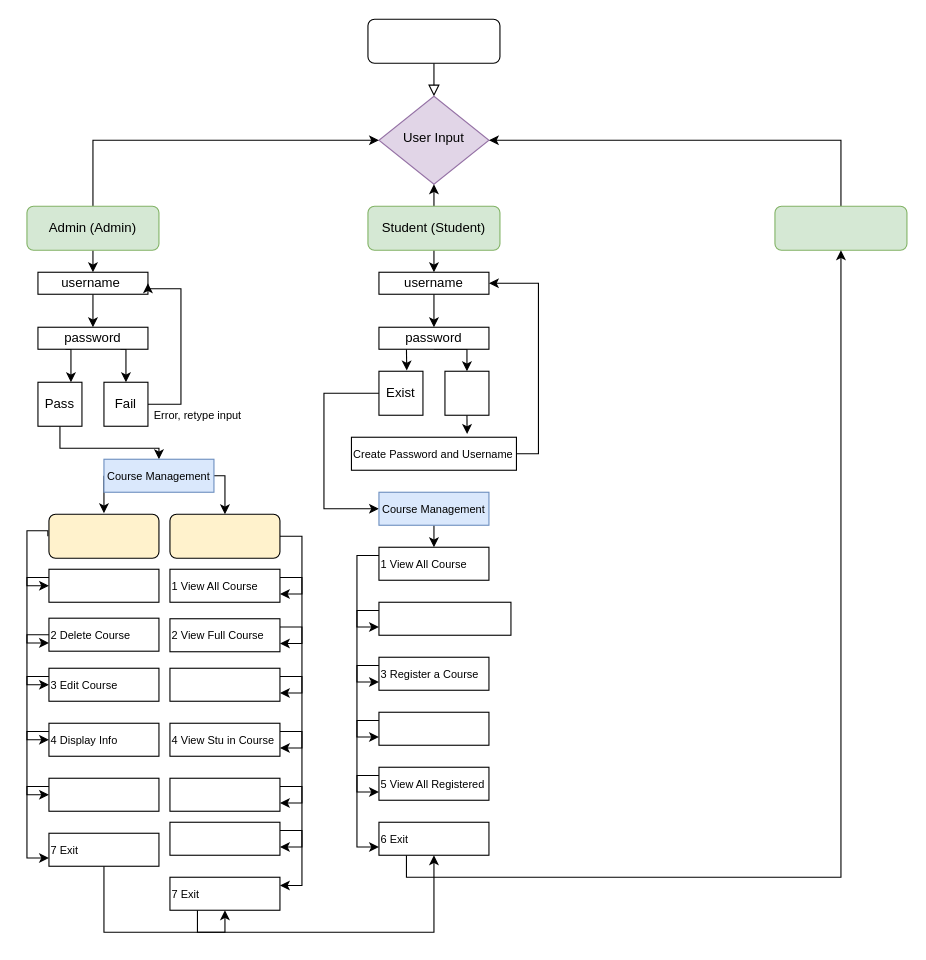
This 926x960 diagram has some shape labels left out. Each missing label, with the box of its shape:
1 Create Course: (48, 568, 159, 602)
2 View Available Course: (378, 601, 511, 635)
3 Write To File: (169, 667, 280, 701)
4 Withdraw a Course: (378, 711, 489, 745)
5 Register Student: (48, 777, 159, 811)
5 View Course of Stu: (169, 777, 280, 811)
6 Sort Course: (169, 821, 280, 855)
E (Exit): (774, 205, 907, 250)
Mange Course: (48, 513, 159, 558)
Null: (444, 370, 489, 415)
Report: (169, 513, 280, 558)
Start: (367, 18, 500, 63)
